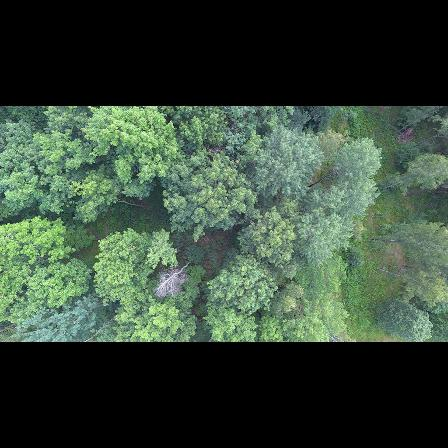Dead: (156, 259, 192, 300)
